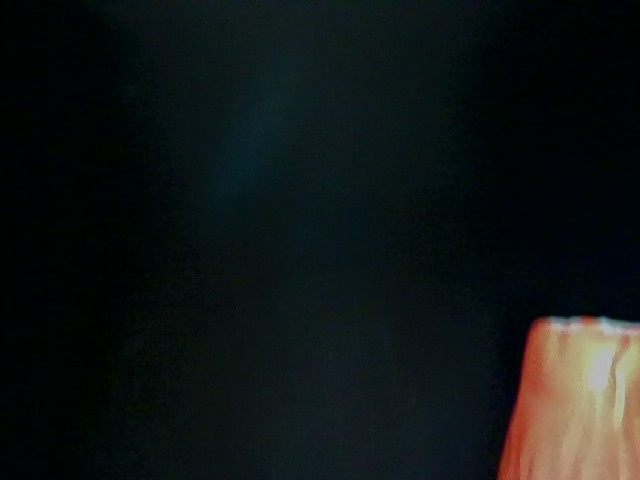QTLJ: (54, 264, 206, 442)
